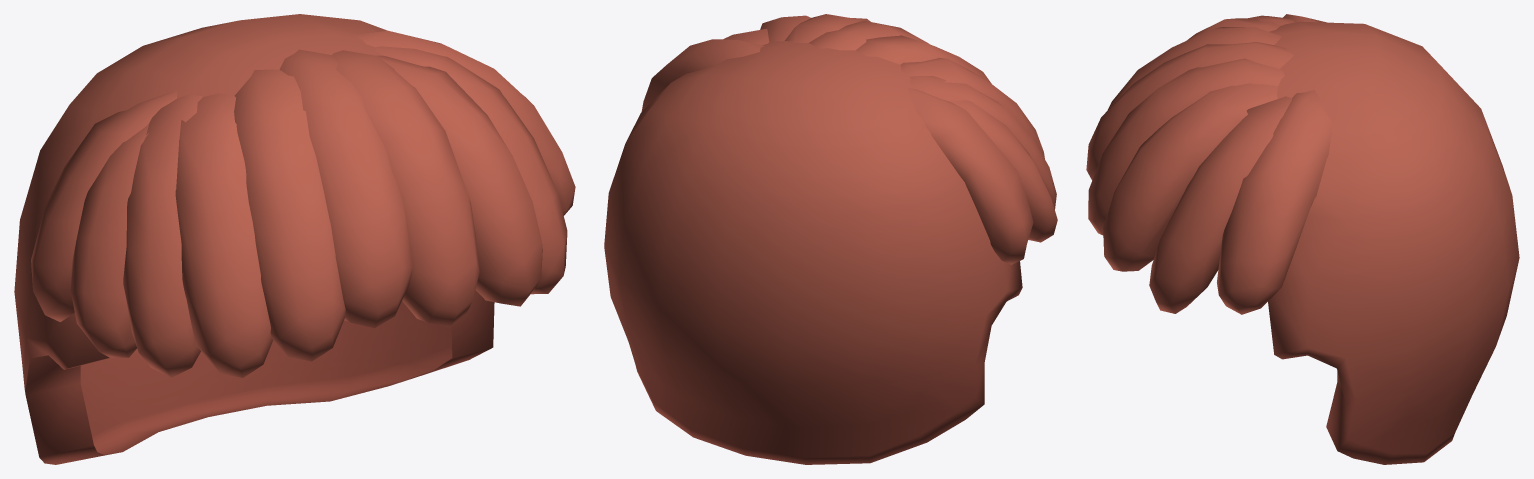
File: Hairstyle_Male_02.glb
The picture shows the model from 3 angles, left to right: view 1: azimuth 30°, elevation 25°; view 2: azimuth 150°, elevation 25°; view 3: azimuth 270°, elevation 25°; orthographic projection. The views are drawn at different scales.
Visible parts, largest first — view 1: Hairstyle_Male_02; view 2: Hairstyle_Male_02; view 3: Hairstyle_Male_02.
Part boxes in pixels (x1,y1,x2,y2): Hairstyle_Male_02: [14, 14, 575, 464]; Hairstyle_Male_02: [604, 14, 1057, 464]; Hairstyle_Male_02: [1086, 14, 1519, 464].
Size of the model in its own units: 0.6338 by 0.5284 by 0.5652.
Materials: 1 (1 with a texture image).
